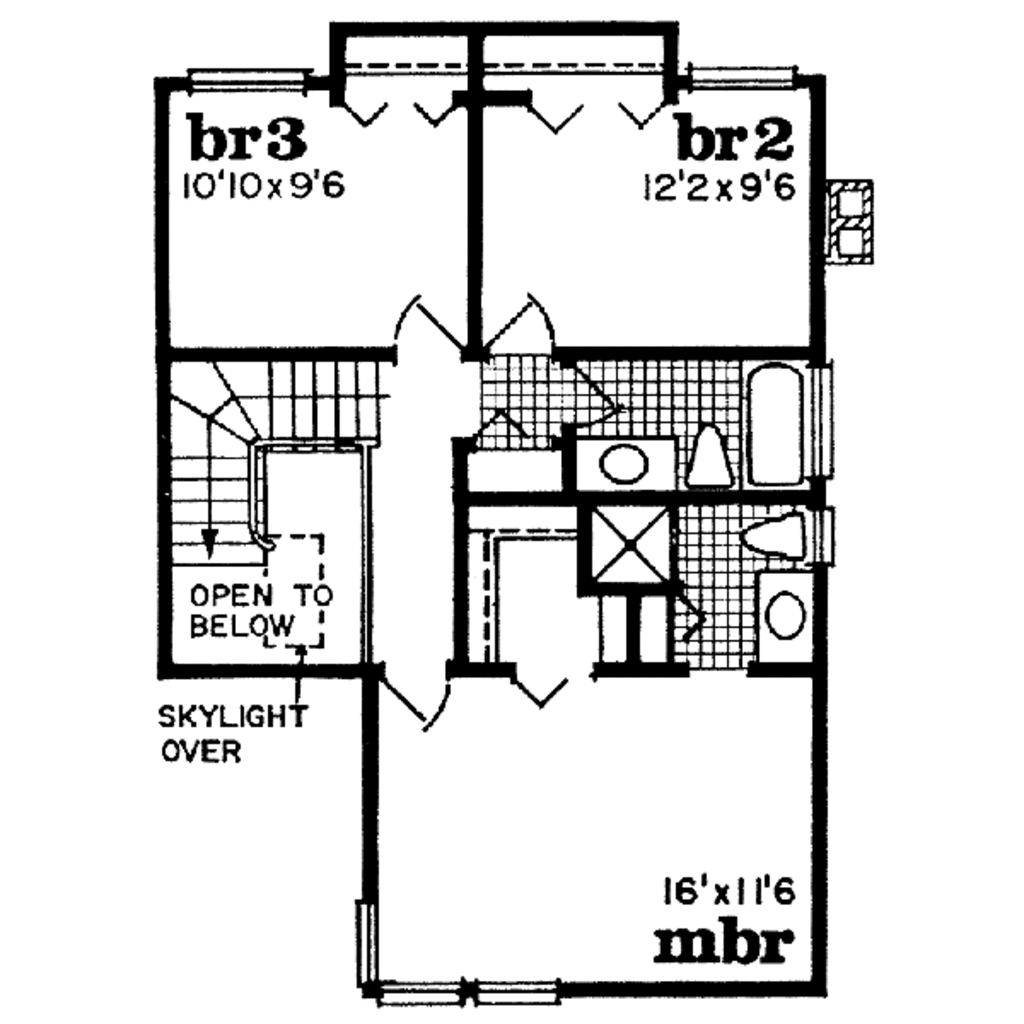door: (381, 293, 473, 359), (478, 292, 563, 363), (373, 664, 456, 733), (557, 368, 621, 432)
large_sink: (731, 503, 815, 567), (683, 420, 747, 493)
small_sink: (753, 570, 827, 670), (578, 440, 679, 496)
stairs: (168, 359, 382, 578)
tub: (738, 354, 804, 503)
window: (352, 981, 578, 1006), (679, 58, 809, 99), (183, 63, 319, 98), (803, 363, 839, 485), (353, 896, 389, 982)
